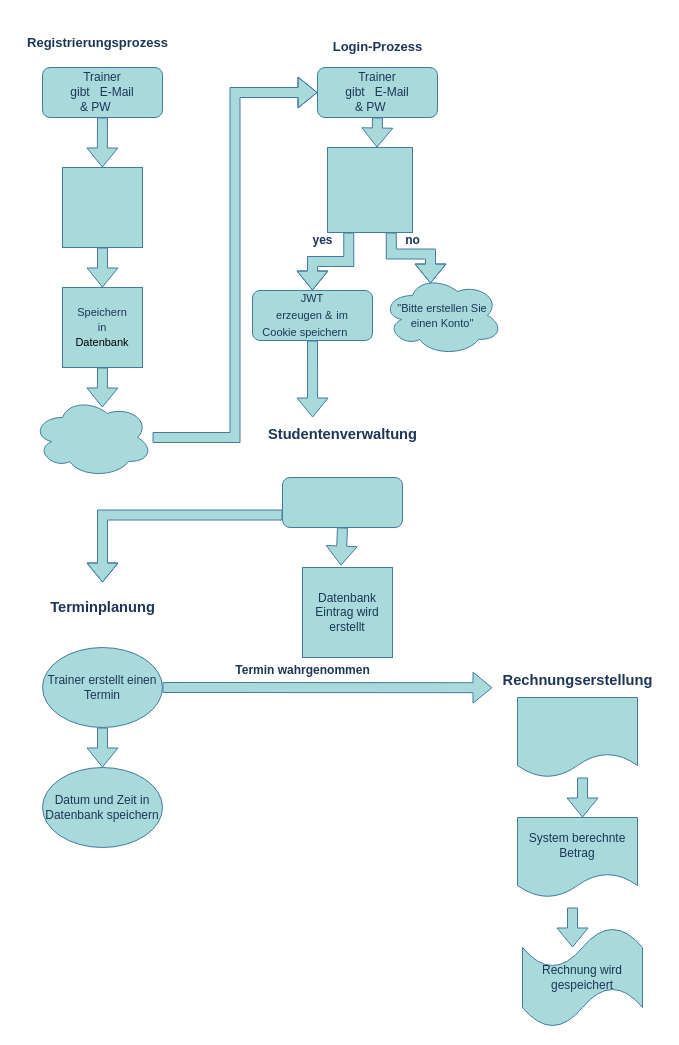
This 679x1045 diagram has some shape labels left out. The centre of each missing label's shape, as x and y in pixels:
"Sie haben einen Konto erstellt": point (92, 437)
Hashing des P assworts: point (102, 207)
Trainer fügt Student hinzu: point (342, 502)
Trainer gibt Listung an: point (577, 737)
Überprüfung des Hashes: point (369, 189)
